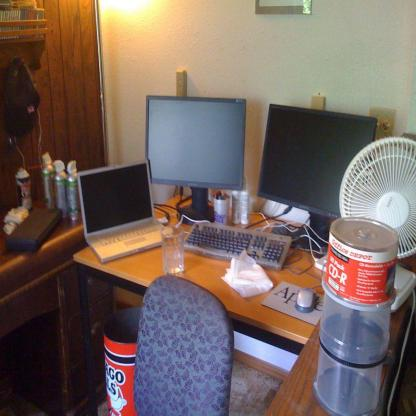board: (76, 157, 174, 263), (54, 159, 67, 217), (68, 160, 80, 222), (42, 153, 54, 209)
